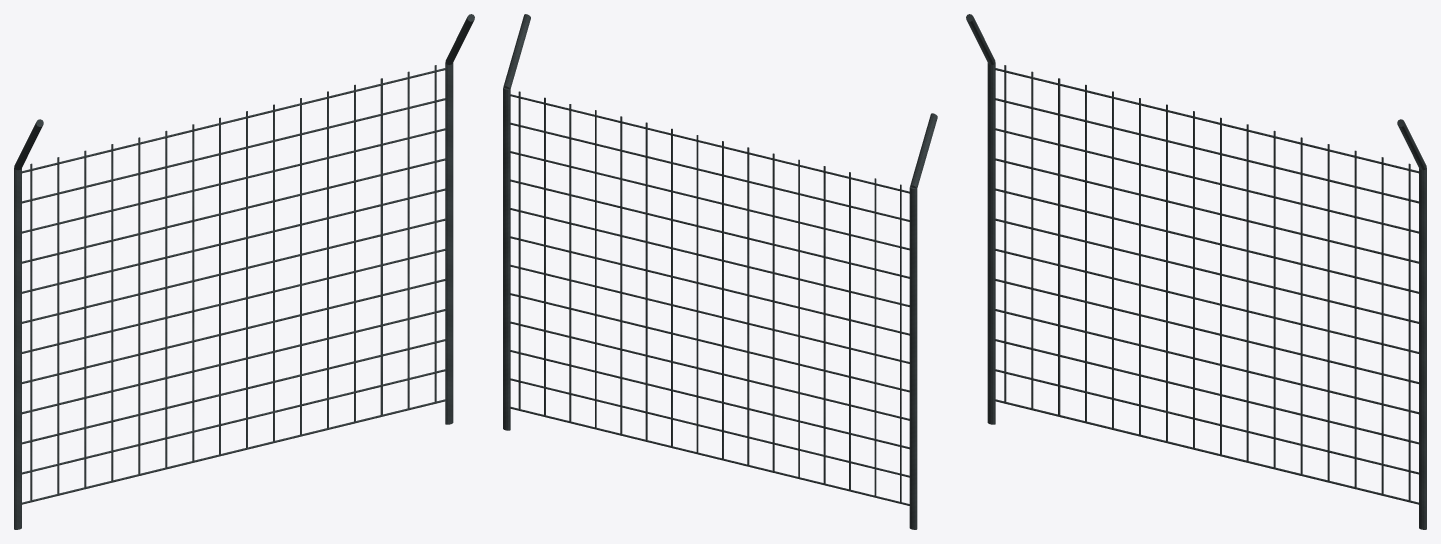
The model's file is catch-fence.glb.
3 renders of one model, left to right at view 1: azimuth 30°, elevation 25°; view 2: azimuth 150°, elevation 25°; view 3: azimuth 330°, elevation 25°, orthographic. The views are drawn at different scales.
Visible parts, largest first — view 1: catch-fence-debris-fence-panel_0; view 2: catch-fence-debris-fence-panel_0; view 3: catch-fence-debris-fence-panel_0.
Boxes of the visible parts, x1,y1,x2,y2 form: catch-fence-debris-fence-panel_0: (14,14,474,529); catch-fence-debris-fence-panel_0: (503,14,937,529); catch-fence-debris-fence-panel_0: (966,14,1426,529).
Size of the model in its own units: 4 by 3.7 by 0.38.
1 material, 1 textured.
